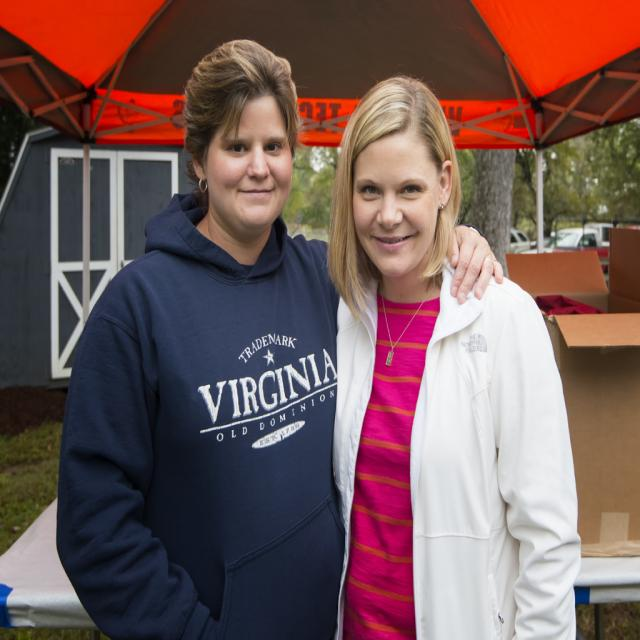Box: (504, 229, 640, 559)
